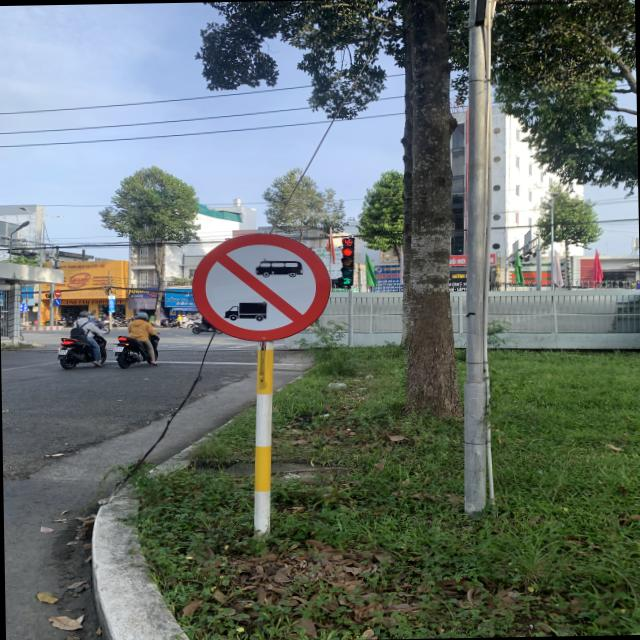Cam_XeTai_XeKhach: (192, 232, 330, 341)
